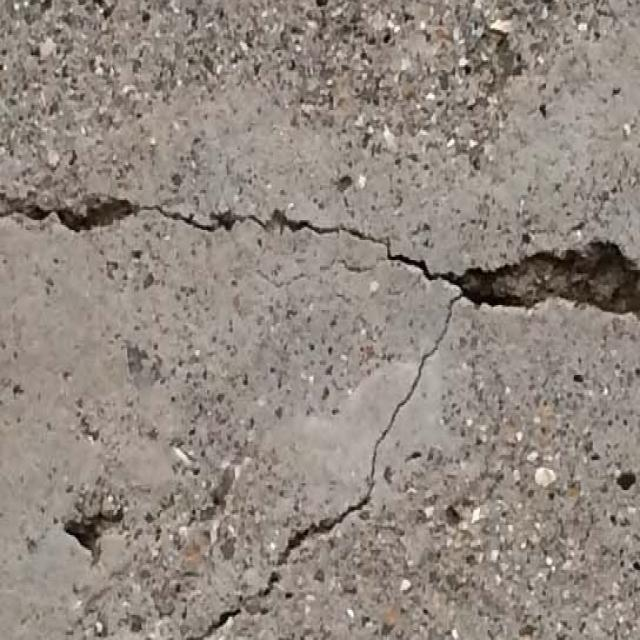Radial: (2, 188, 640, 640)
